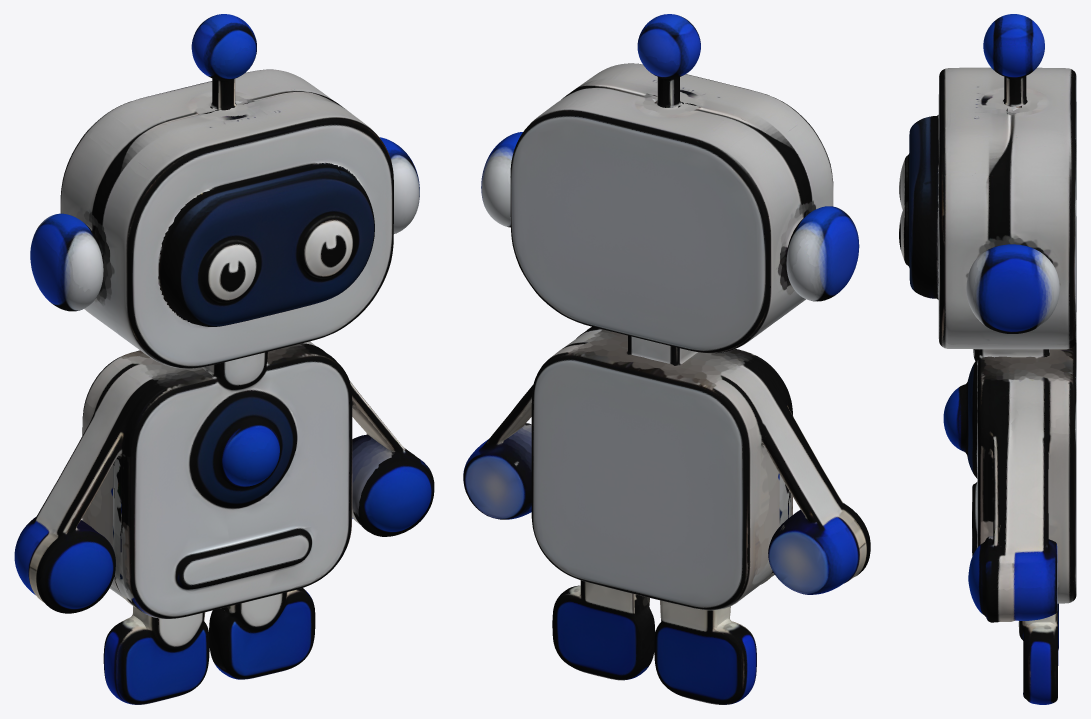
The model's file is tin-robot.glb.
3 views of the same model, side by side, from view 1: azimuth 30°, elevation 25°; view 2: azimuth 150°, elevation 25°; view 3: azimuth 270°, elevation 25° (orthographic). The views are drawn at different scales.
Visible parts, largest first — view 1: textured; view 2: textured; view 3: textured.
Boxes of the visible parts, box(x1,y1,x2,y2) form: textured: box(14, 14, 434, 704); textured: box(463, 14, 870, 704); textured: box(899, 14, 1076, 704).
Bounding box in the file's own units: 1.2 × 1.97 × 0.4878.
Materials: 1 (1 with a texture image).
